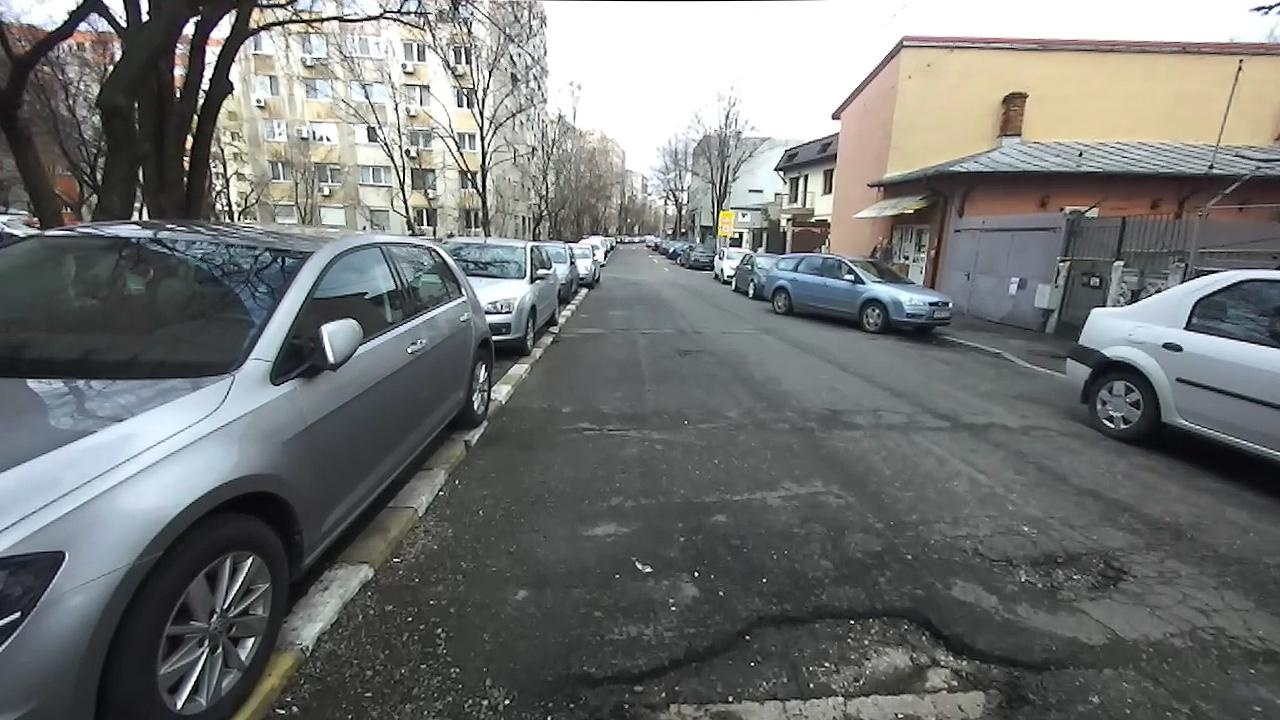pothole: (557, 607, 1074, 719), (964, 542, 1137, 604), (565, 415, 653, 442)
